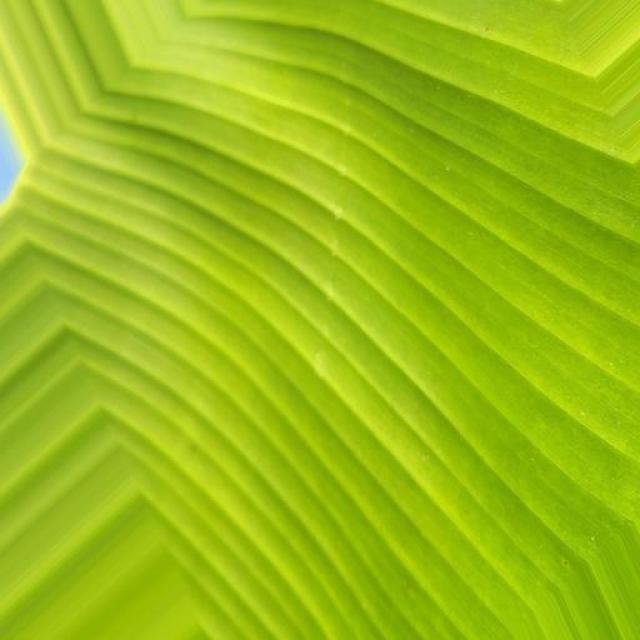Black_leaf_spot: (47, 0, 640, 583)
